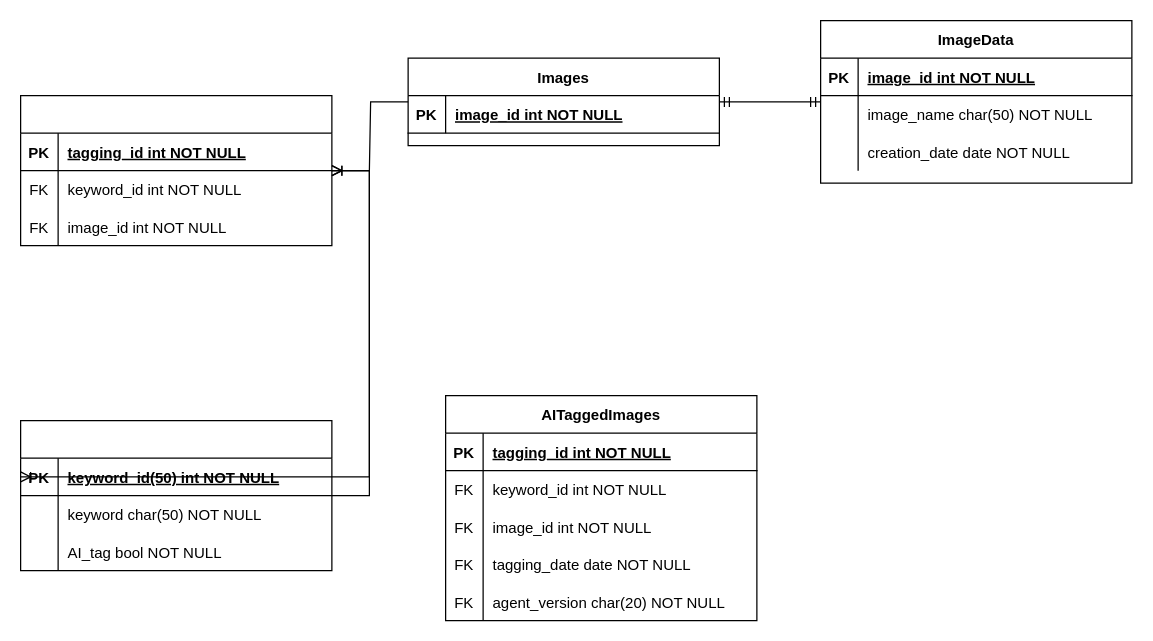
The diagram is 1153 pixels wide and 641 high, and some of its shapes have lost their labels. The box of each missing label's shape, as (x1, y1, x2, y2) in pixels:
Keywords: (19, 419, 332, 571)
ManualTaggedImages: (19, 94, 332, 246)
